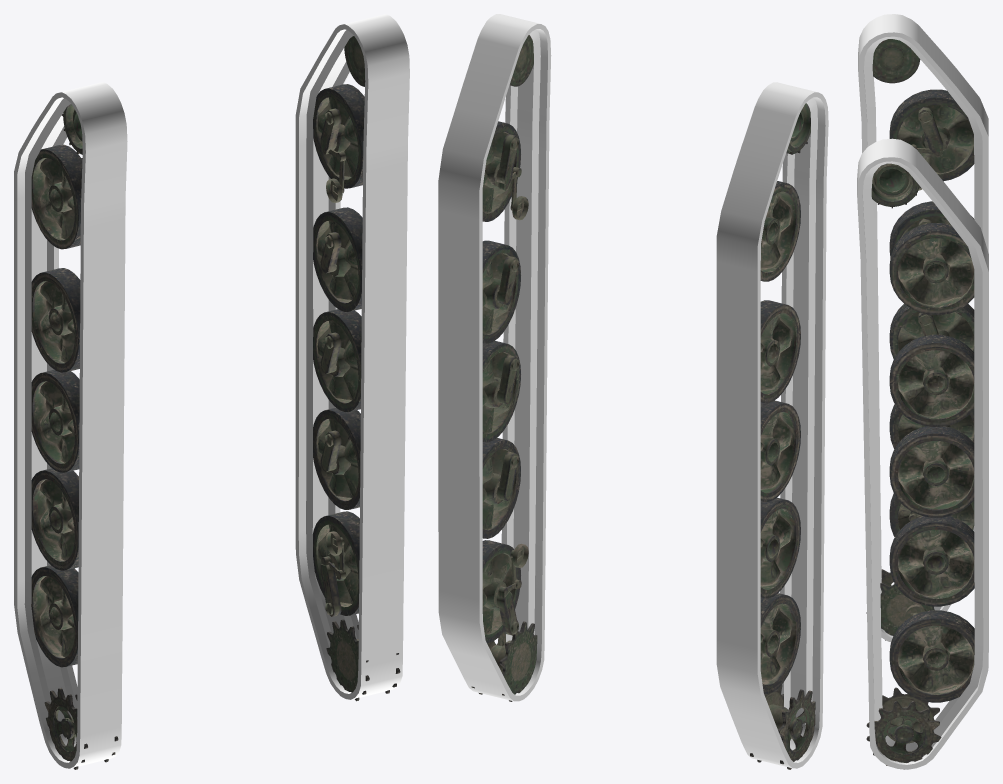
The model's file is Chassis.glb.
The picture shows the model from 3 angles, left to right: view 1: azimuth 30°, elevation 25°; view 2: azimuth 150°, elevation 25°; view 3: azimuth 270°, elevation 25°; orthographic projection. The views are drawn at different scales.
Parts seen in each view (by area): view 1: set_1_group_0, set_0_group_0, set_3_group_0, set_2_group_0; view 2: set_1_group_0, set_0_group_0, set_2_group_0, set_3_group_0; view 3: set_3_group_0, set_1_group_0, set_2_group_0, set_0_group_0.
Part boxes in pixels (bbox=[...]): set_1_group_0: bbox=[295, 14, 409, 699]; set_0_group_0: bbox=[14, 82, 127, 768]; set_3_group_0: bbox=[313, 36, 400, 701]; set_2_group_0: bbox=[31, 104, 118, 769]; set_1_group_0: bbox=[438, 14, 551, 701]; set_0_group_0: bbox=[716, 82, 828, 768]; set_2_group_0: bbox=[750, 103, 815, 769]; set_3_group_0: bbox=[471, 35, 537, 701]; set_3_group_0: bbox=[866, 163, 974, 765]; set_1_group_0: bbox=[857, 138, 988, 769]; set_2_group_0: bbox=[866, 39, 974, 640]; set_0_group_0: bbox=[858, 14, 988, 642].
Bounding box in the file's own units: 2.76 × 5.53 × 1.08.
4 materials, 2 textured.
